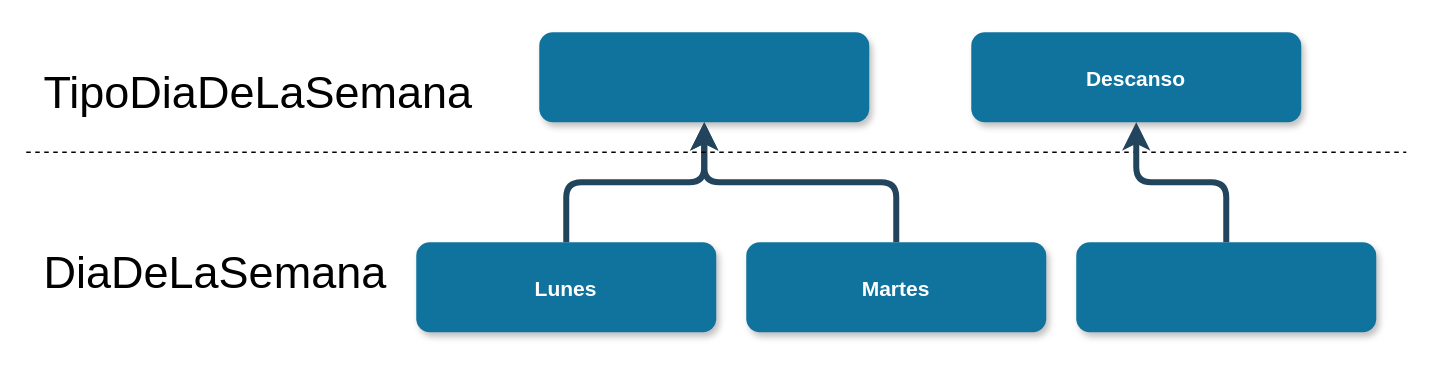
Image size: 1434x368. Some labels were removed from this diagram. Here are the shapes that lost their labels. From the top down, the centre of each, then its label:
At point (705, 79): "Laboral".
At point (1227, 289): "Sábado".
